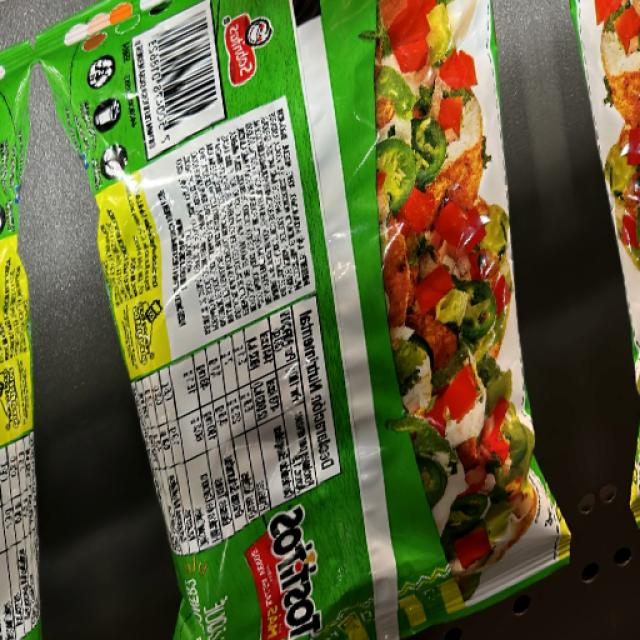productoAtras: (133, 29, 511, 591)
